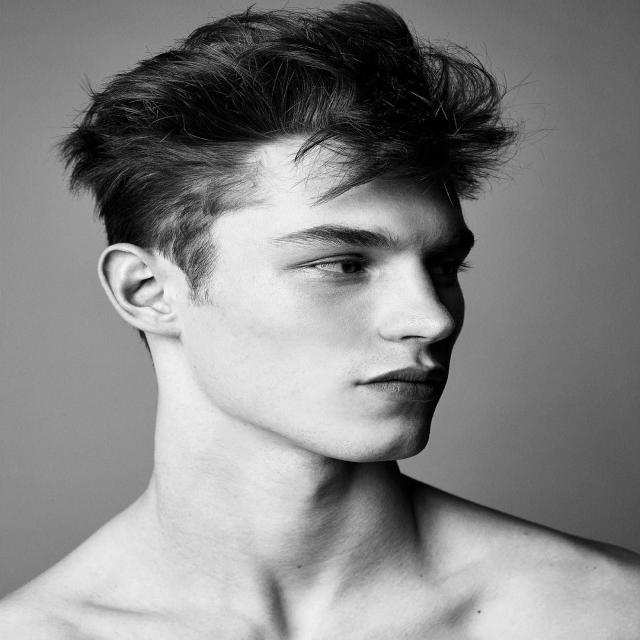earlobe: (100, 243, 183, 336)
